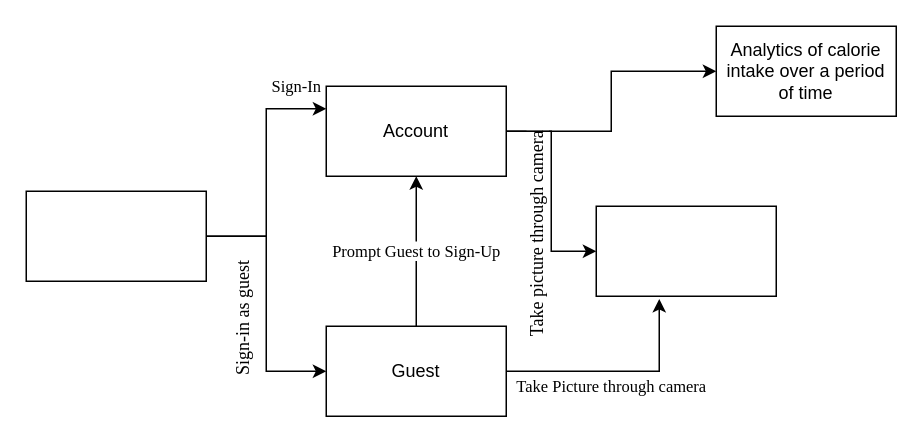
Some shapes in this 923 by 443 pixel diagram are drawn without their labels. The centre of each missing label's shape, as x and y in pixels:
"Classification of Picture and its associated calories" goes at (x=685, y=250).
"Customer" goes at (x=115, y=235).
